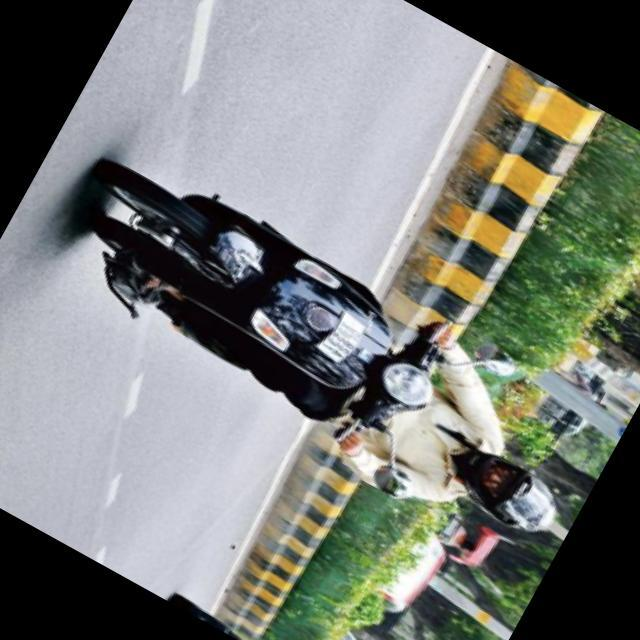WITH_HELMET: (436, 436, 571, 550)
